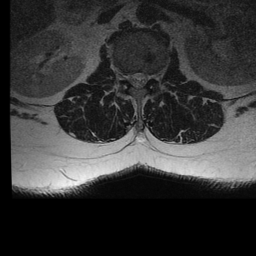CCS_normal: (134, 66, 141, 93)
LFS_stenosis: (148, 67, 155, 86)
LLS_normal: (141, 67, 148, 89)
RFS_normal: (122, 66, 129, 85)
RLS_normal: (128, 67, 134, 88)
